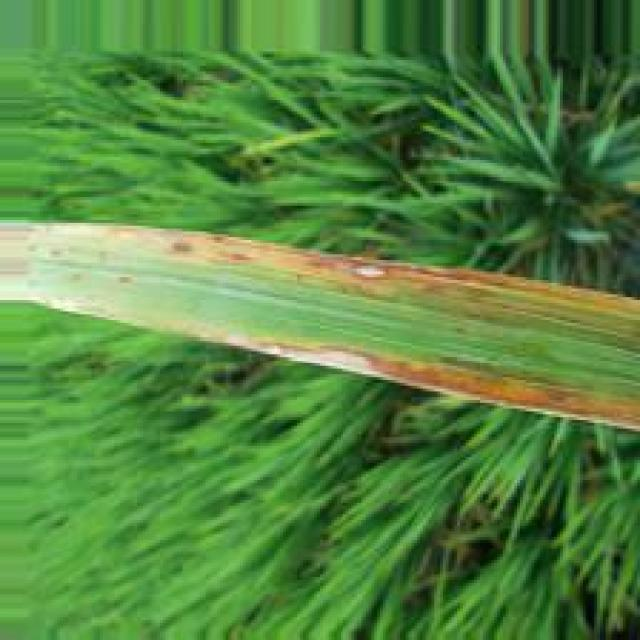Narrow_Brown_Leaf_Spot: (234, 335, 640, 429), (85, 219, 581, 289)
